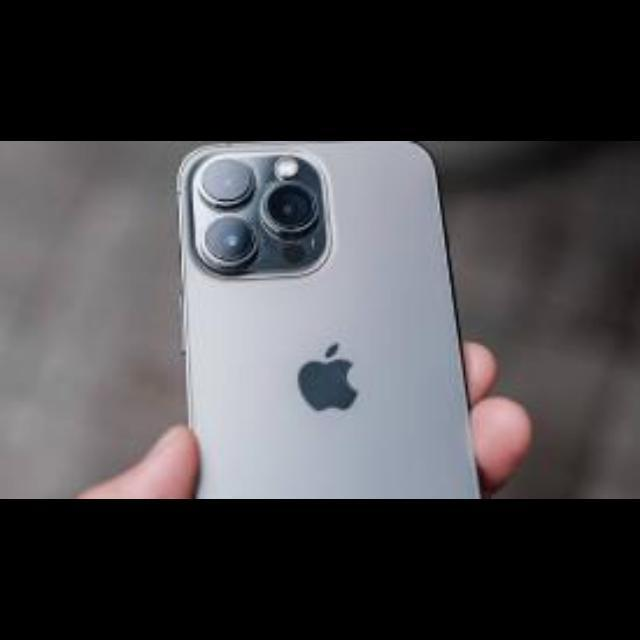phone: (171, 142, 525, 498)
